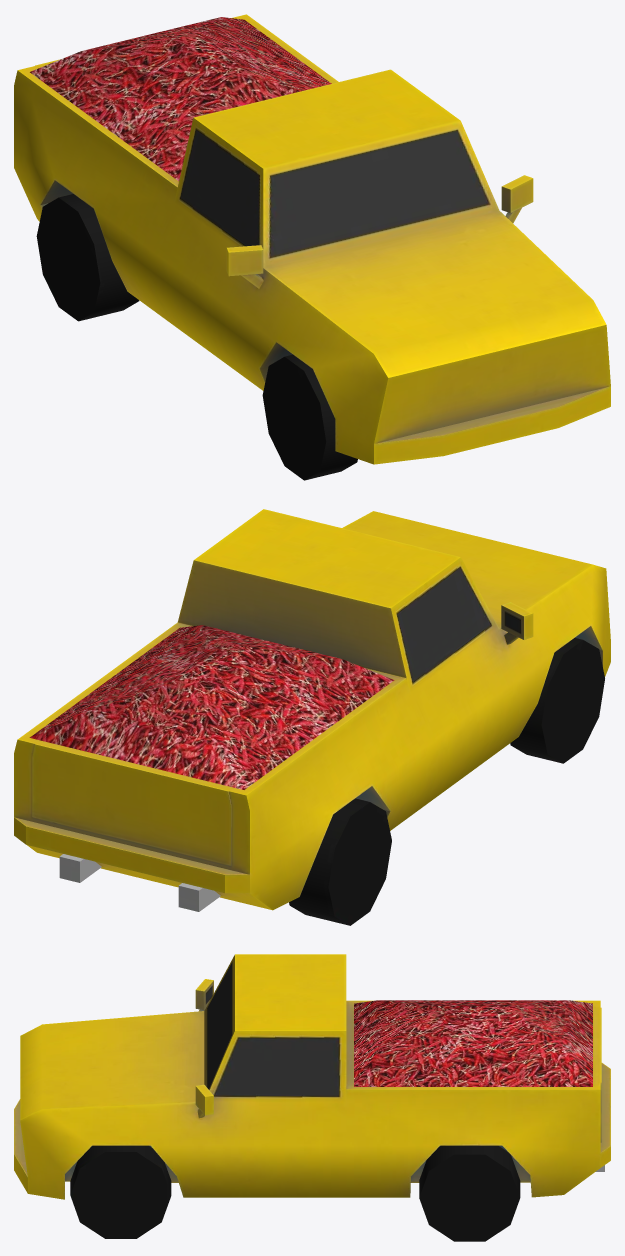
File: Gadi02-transformed.glb
The picture shows the model from 3 angles, top to bottom: view 1: azimuth 30°, elevation 25°; view 2: azimuth 150°, elevation 25°; view 3: azimuth 270°, elevation 25°; orthographic projection. The views are drawn at different scales.
Parts seen in each view (by area): view 1: Gadi; view 2: Gadi; view 3: Gadi.
Part boxes in pixels (x1,y1,x2,y2): Gadi: [14, 14, 610, 480]; Gadi: [14, 509, 610, 925]; Gadi: [14, 954, 610, 1241].
Bounding box in the file's own units: 1.12 × 0.85 × 2.39.
Materials: 1 (1 with a texture image).
